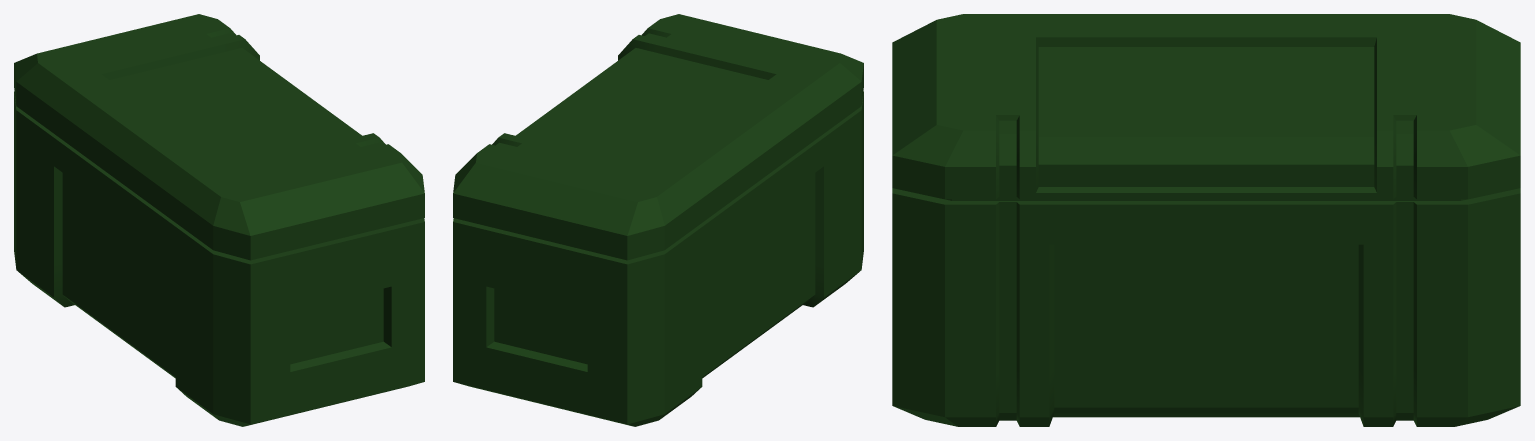
The picture shows the model from 3 angles, left to right: view 1: azimuth 30°, elevation 25°; view 2: azimuth 150°, elevation 25°; view 3: azimuth 270°, elevation 25°; orthographic projection. The views are drawn at different scales.
Visible parts, largest first — view 1: Cube; view 2: Cube; view 3: Cube.
Part boxes in pixels (bbox=[...]): Cube: bbox=[14, 14, 424, 426]; Cube: bbox=[453, 14, 863, 426]; Cube: bbox=[892, 14, 1520, 426].
Size of the model in its own units: 172 by 173 by 336.
